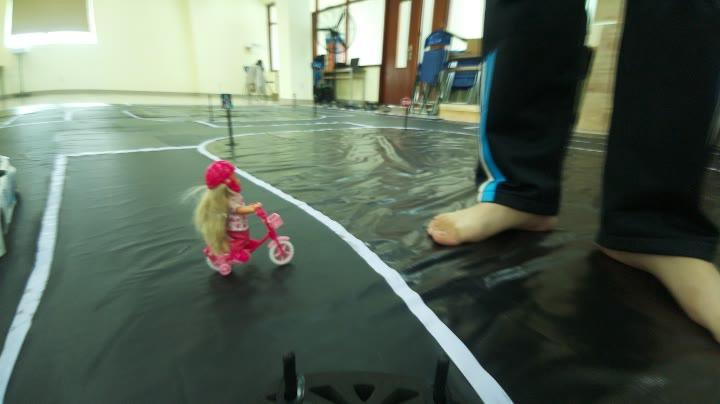pedestrian: (184, 158, 304, 272)
